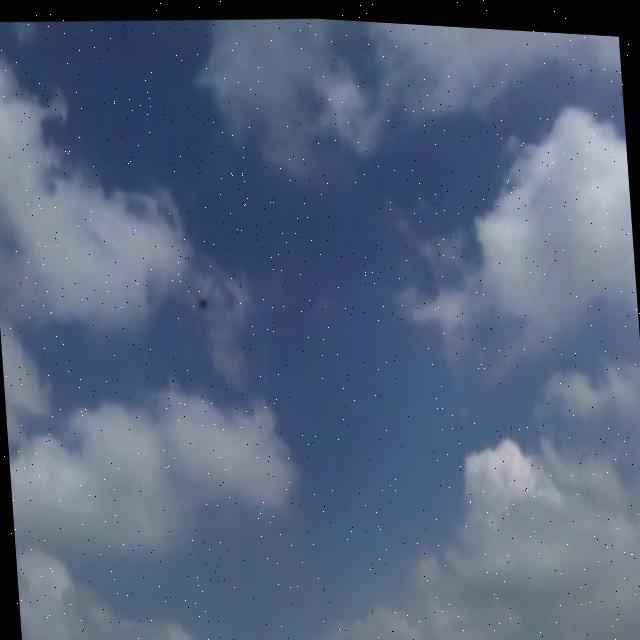drone: (194, 287, 208, 310)
